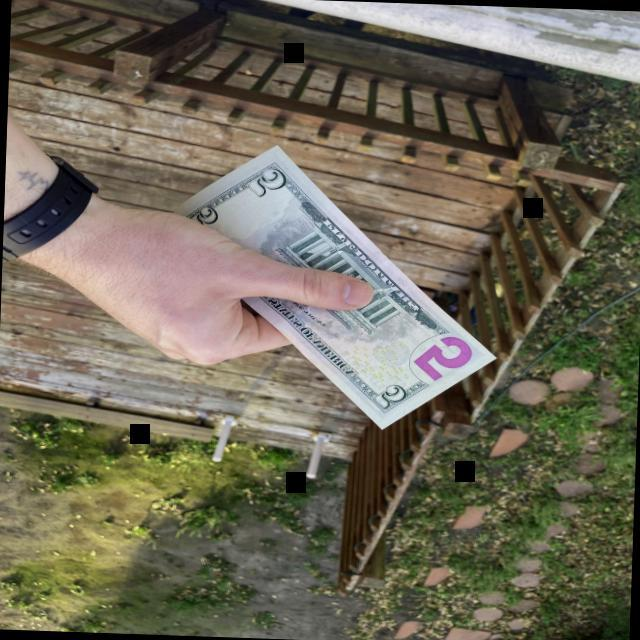five: (160, 143, 495, 429)
